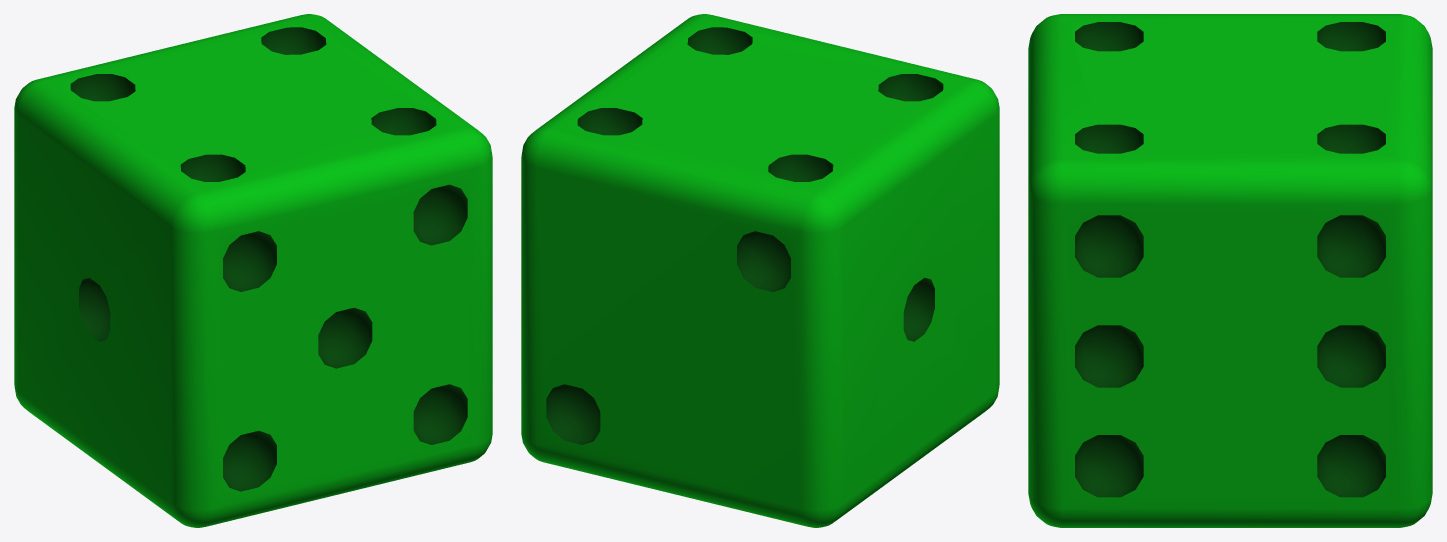
Rendered from dice_green.dae.
3 views of the same model, side by side, from view 1: azimuth 30°, elevation 25°; view 2: azimuth 150°, elevation 25°; view 3: azimuth 270°, elevation 25° (orthographic). The views are drawn at different scales.
Visible parts, largest first — view 1: dice_green; view 2: dice_green; view 3: dice_green.
Boxes of the visible parts, x1,y1,x2,y2 form: dice_green: [14, 14, 492, 527]; dice_green: [521, 14, 999, 527]; dice_green: [1028, 14, 1432, 527].
Bounding box in the file's own units: 5 × 5 × 5.
1 material, 1 textured.
